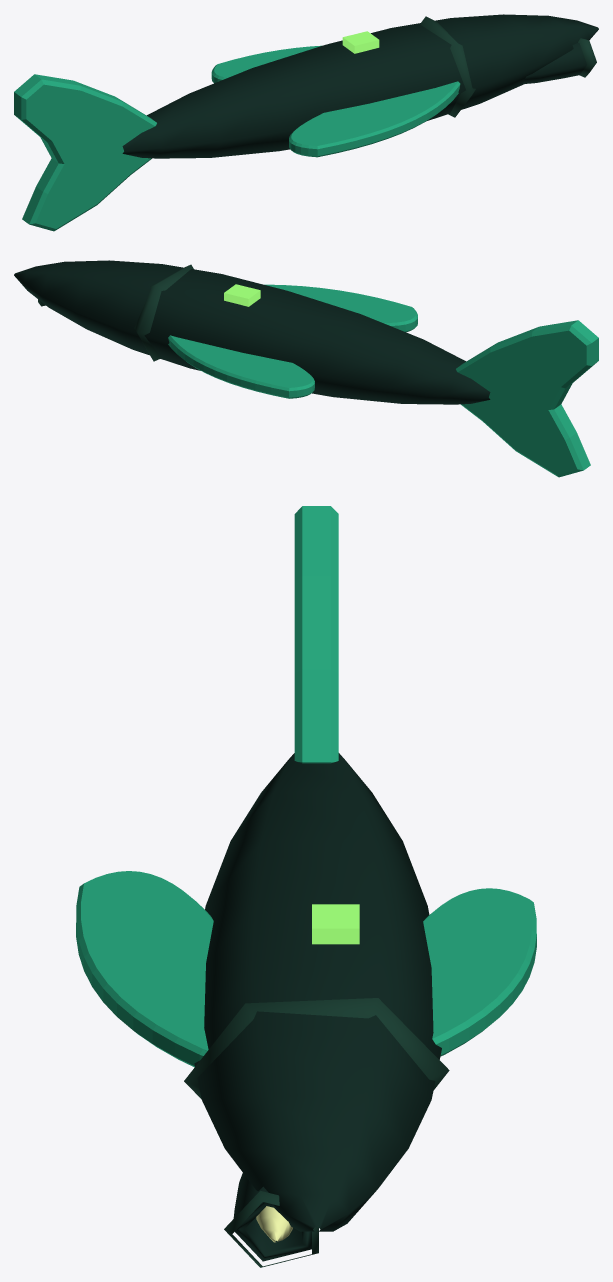
File: runner-pelagia.glb
3 renders of one model, top to bottom at view 1: azimuth 30°, elevation 25°; view 2: azimuth 150°, elevation 25°; view 3: azimuth 270°, elevation 25°, orthographic. The views are drawn at different scales.
Parts seen in each view (by area): view 1: pod_body, drive_fluke, seed_leaf_s, seed_leaf_p, seed_node_s, growth_ring_0, nav_crown, seed_node_lip_s; view 2: pod_body, drive_fluke, seed_leaf_p, seed_leaf_s, growth_ring_0, nav_crown; view 3: pod_body, seed_leaf_s, seed_leaf_p, drive_fluke, growth_ring_0, seed_node_s, nav_crown, seed_node_lip_s.
Boxes of the visible parts, x1=… form: pod_body: x1=122, y1=14, x2=598, y2=158; drive_fluke: x1=14, y1=74, x2=156, y2=231; seed_leaf_s: x1=289, y1=81, x2=460, y2=157; seed_leaf_p: x1=211, y1=45, x2=321, y2=83; seed_node_s: x1=522, y1=43, x2=586, y2=84; growth_ring_0: x1=420, y1=16, x2=475, y2=117; nav_crown: x1=342, y1=31, x2=379, y2=53; seed_node_lip_s: x1=578, y1=38, x2=596, y2=77; pod_body: x1=14, y1=260, x2=490, y2=404; drive_fluke: x1=456, y1=320, x2=598, y2=477; seed_leaf_p: x1=168, y1=335, x2=314, y2=398; seed_leaf_s: x1=264, y1=284, x2=417, y2=332; growth_ring_0: x1=134, y1=264, x2=193, y2=361; nav_crown: x1=224, y1=284, x2=260, y2=306; pod_body: x1=194, y1=753, x2=441, y2=1231; seed_leaf_s: x1=76, y1=871, x2=213, y2=1067; seed_leaf_p: x1=423, y1=888, x2=536, y2=1056; drive_fluke: x1=294, y1=506, x2=338, y2=763; growth_ring_0: x1=184, y1=998, x2=449, y2=1098; seed_node_s: x1=233, y1=1173, x2=311, y2=1261; nav_crown: x1=312, y1=904, x2=359, y2=944; seed_node_lip_s: x1=224, y1=1190, x2=318, y2=1267.
Bounding box in the file's own units: 14 × 3.58 × 4.81.
